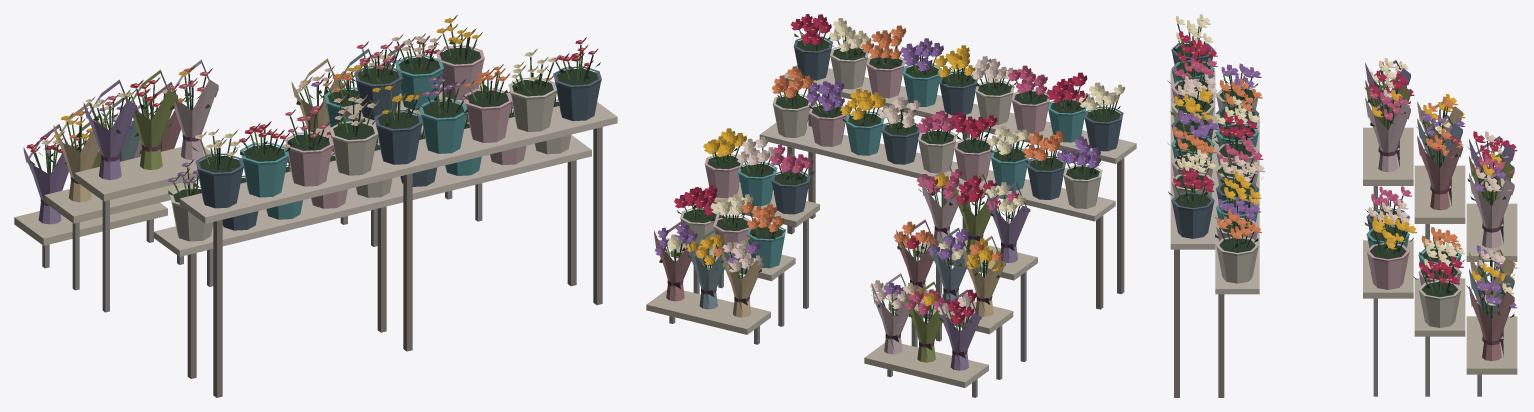
Rendered from myeong.glb.
The picture shows the model from 3 angles, left to right: view 1: azimuth 30°, elevation 25°; view 2: azimuth 150°, elevation 25°; view 3: azimuth 270°, elevation 25°; orthographic projection. The views are drawn at different scales.
Visible parts, largest first — view 1: flowers; view 2: flowers; view 3: flowers.
Part boxes in pixels (x1,y1,x2,y2): flowers: (14,15,617,397); flowers: (646,14,1136,397); flowers: (1167,14,1517,397).
Size of the model in its own units: 3.32 by 2.01 by 2.87.
